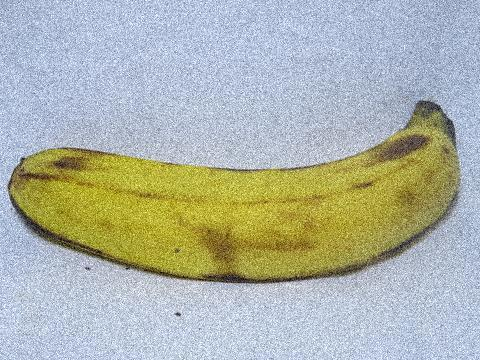ripe: (7, 95, 469, 269)
